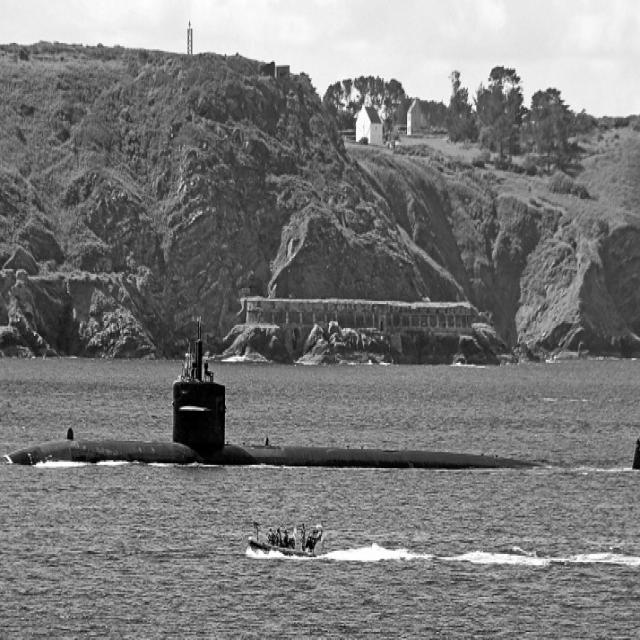submarine: (3, 330, 640, 467)
